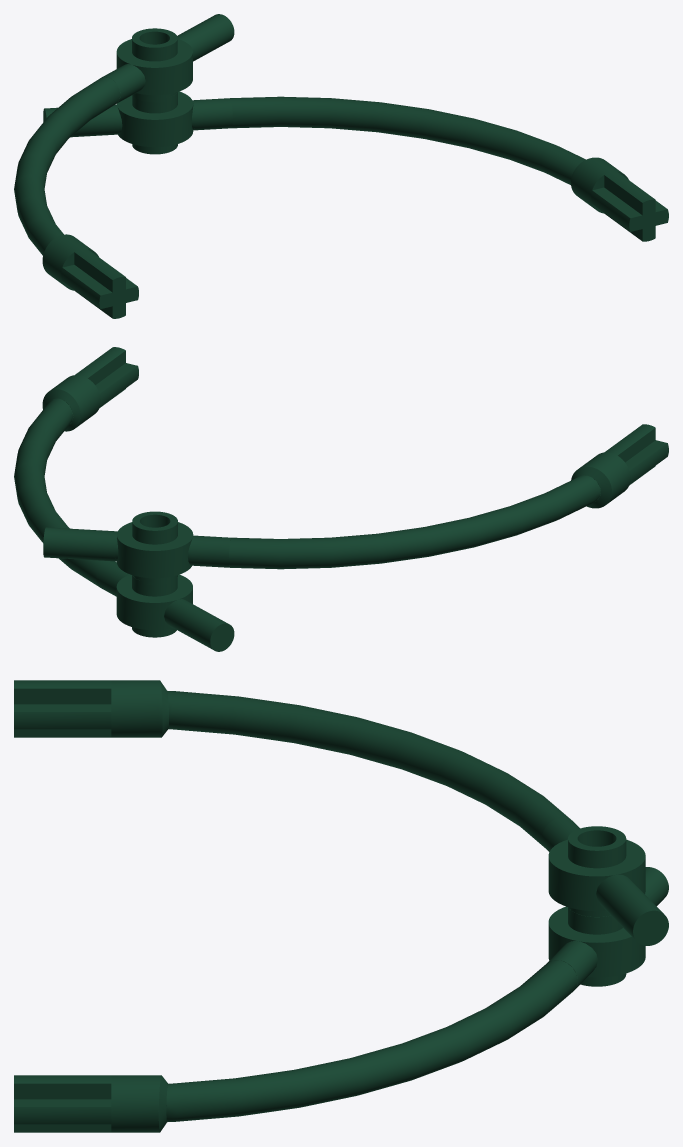
The model's file is reja.dae.
The picture shows the model from 3 angles, top to bottom: view 1: azimuth 30°, elevation 25°; view 2: azimuth 150°, elevation 25°; view 3: azimuth 270°, elevation 25°; orthographic projection. The views are drawn at different scales.
Visible parts, largest first — view 1: Inner-Node-UntitledModel_dot_io-1, Inner-Node-UntitledModel_dot_io-0; view 2: Inner-Node-UntitledModel_dot_io-0, Inner-Node-UntitledModel_dot_io-1; view 3: Inner-Node-UntitledModel_dot_io-0, Inner-Node-UntitledModel_dot_io-1.
Part boxes in pixels (x1,y1,x2,y2): Inner-Node-UntitledModel_dot_io-1: (43, 91, 668, 241); Inner-Node-UntitledModel_dot_io-0: (14, 14, 234, 318); Inner-Node-UntitledModel_dot_io-0: (43, 424, 668, 585); Inner-Node-UntitledModel_dot_io-1: (14, 347, 234, 651); Inner-Node-UntitledModel_dot_io-0: (14, 680, 668, 945); Inner-Node-UntitledModel_dot_io-1: (14, 867, 668, 1132).
Bounding box in the file's own units: 172 × 30.75 × 135.
